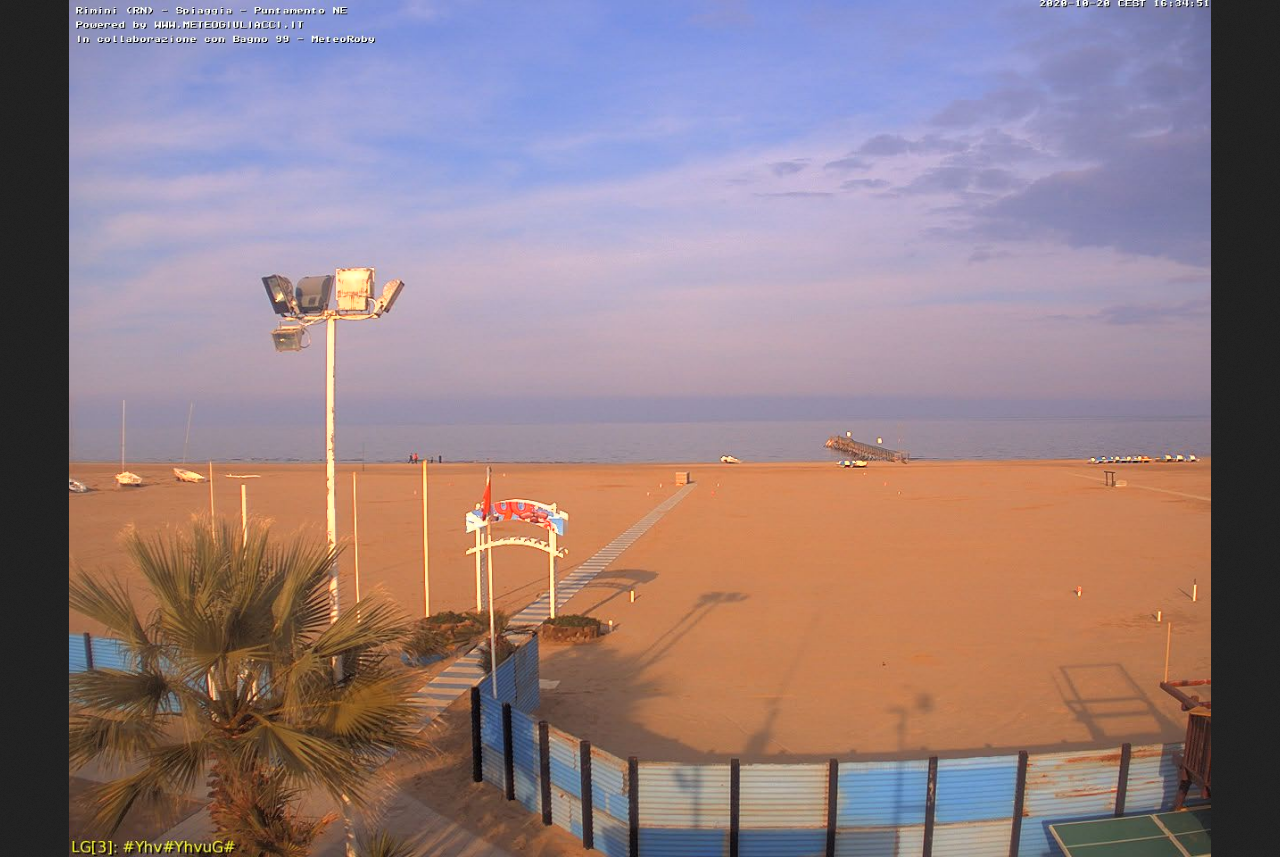no: (481, 472, 495, 524)
